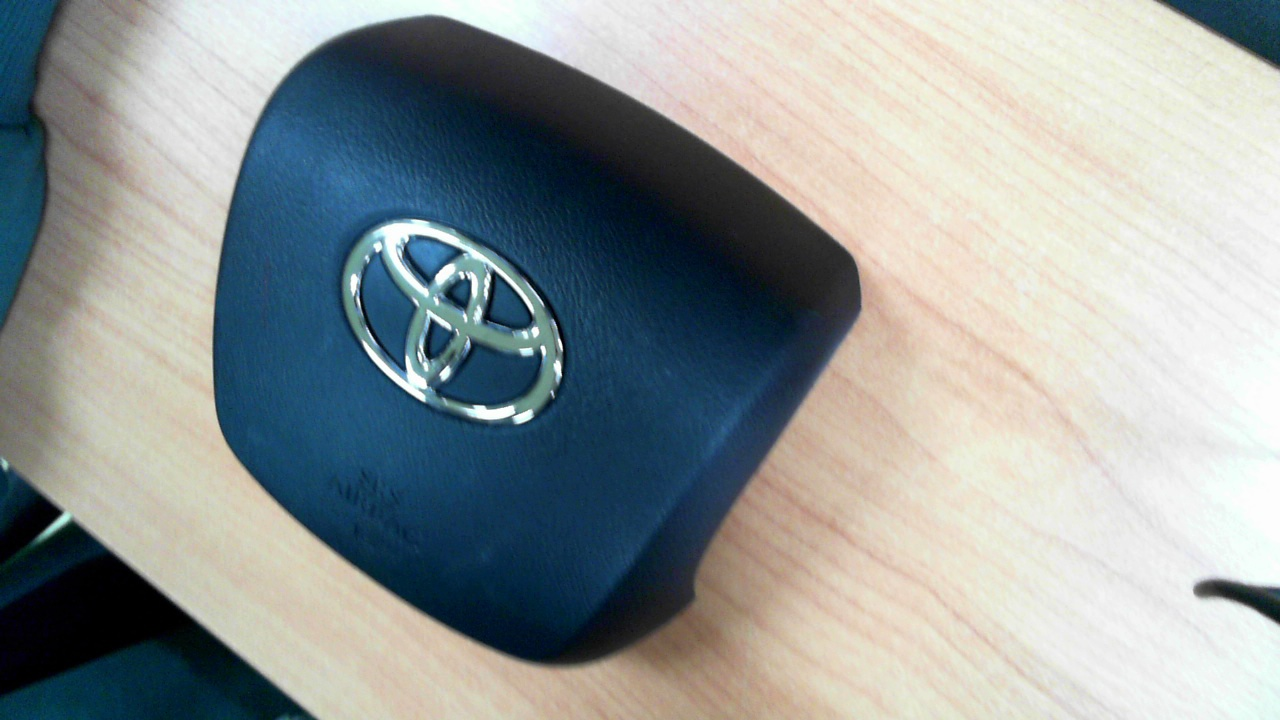Airbag: (213, 14, 861, 667)
Toyota: (342, 218, 564, 424)
